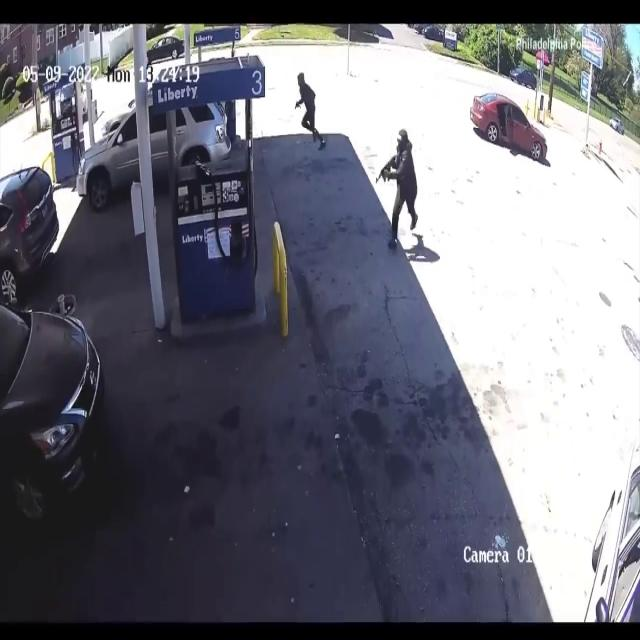penembakan: (375, 126, 422, 270), (290, 73, 326, 160)
